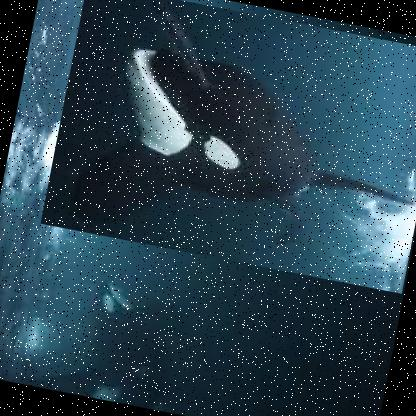killer_whale: (39, 0, 415, 295)
